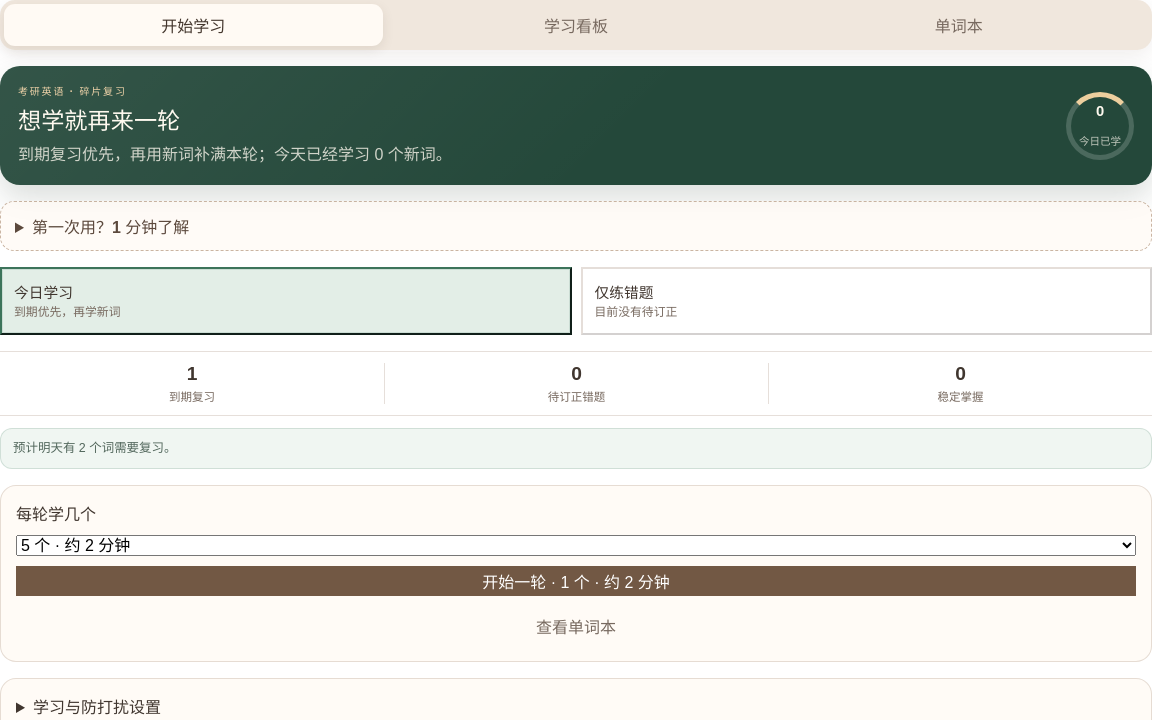
Scenario: learning micro-session › opens the local mistake list with counts and meanings
This screenshot has width=1152, height=720.
What coordinates should you click on to do the following:
click the button "单词本"
I would click on:
 (959, 25)
Its box is [769,4,1148,46].
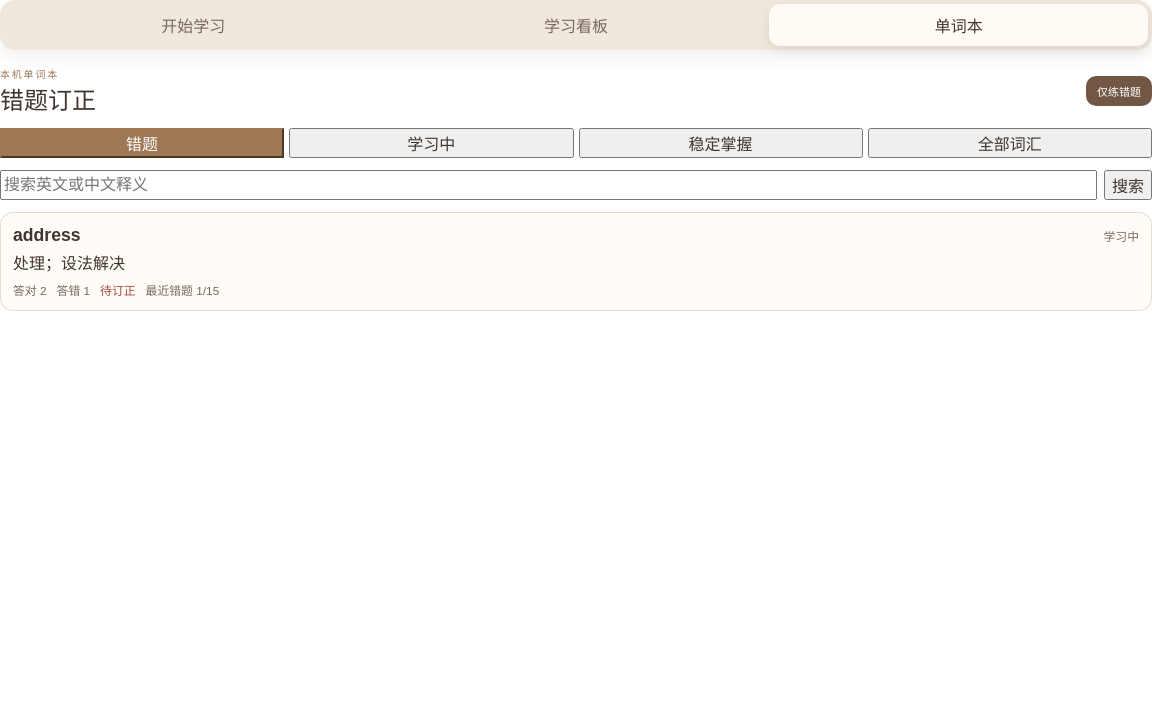
expect the text "错题订正" is shown: met, box [0,81,96,116]
expect the text "address" is shown: met, box [13,225,80,246]
expect the text "答对 2" is shown: met, box [13,281,46,298]
